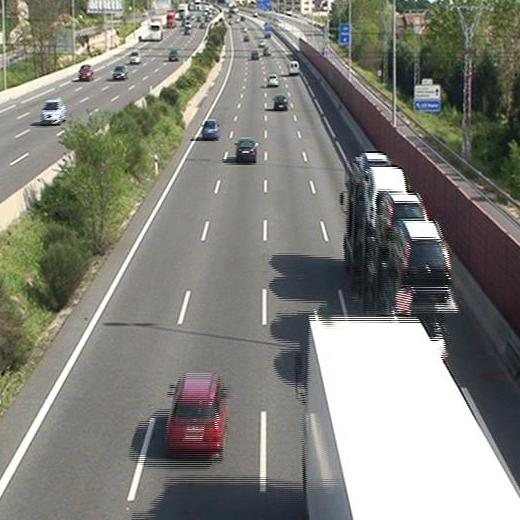car: (165, 373, 229, 455), (392, 221, 450, 298), (379, 195, 427, 243), (236, 137, 258, 161), (200, 119, 219, 137), (273, 94, 287, 110), (266, 74, 279, 86), (250, 49, 259, 60)
truck: (344, 158, 456, 358)
van: (287, 61, 299, 74)
